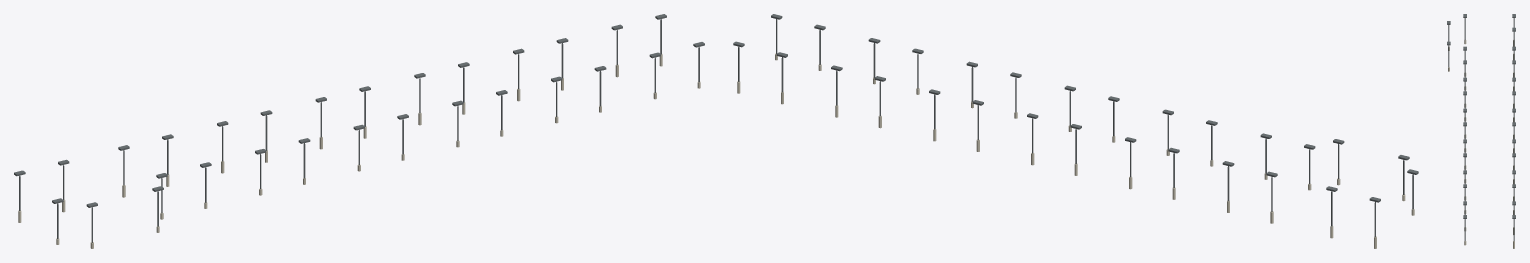
3 views of the same model, side by side, from view 1: azimuth 30°, elevation 25°; view 2: azimuth 150°, elevation 25°; view 3: azimuth 270°, elevation 25° (orthographic). The views are drawn at different scales.
Parts seen in each view (by area): view 1: buildings_s_-4_2_Dark_Metal, buildings_s_-4_2_Warm_Limestone; view 2: buildings_s_-4_2_Dark_Metal, buildings_s_-4_2_Warm_Limestone; view 3: buildings_s_-4_2_Dark_Metal, buildings_s_-4_2_Warm_Limestone.
Boxes of the visible parts, bbox=[...] form: buildings_s_-4_2_Dark_Metal: bbox=[14, 14, 704, 242]; buildings_s_-4_2_Warm_Limestone: bbox=[18, 54, 700, 248]; buildings_s_-4_2_Dark_Metal: bbox=[733, 14, 1418, 237]; buildings_s_-4_2_Warm_Limestone: bbox=[737, 53, 1414, 248]; buildings_s_-4_2_Dark_Metal: bbox=[1447, 14, 1515, 241]; buildings_s_-4_2_Warm_Limestone: bbox=[1448, 40, 1514, 248].
Bounding box in the file's own units: 119 × 8.68 × 16.9.
